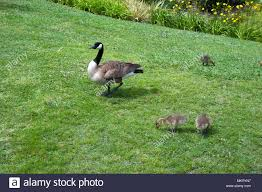goose: (85, 41, 145, 99)
